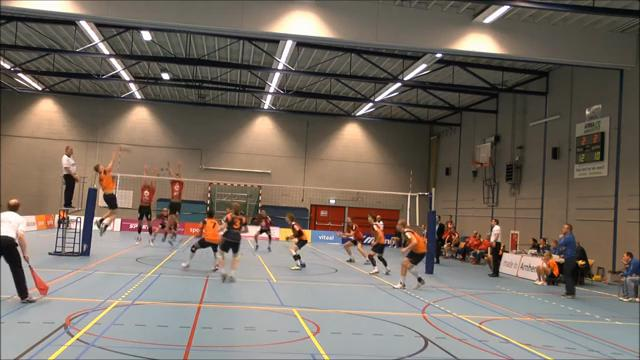attacco: (88, 144, 122, 237)
muro: (159, 155, 185, 247), (132, 160, 156, 248)
